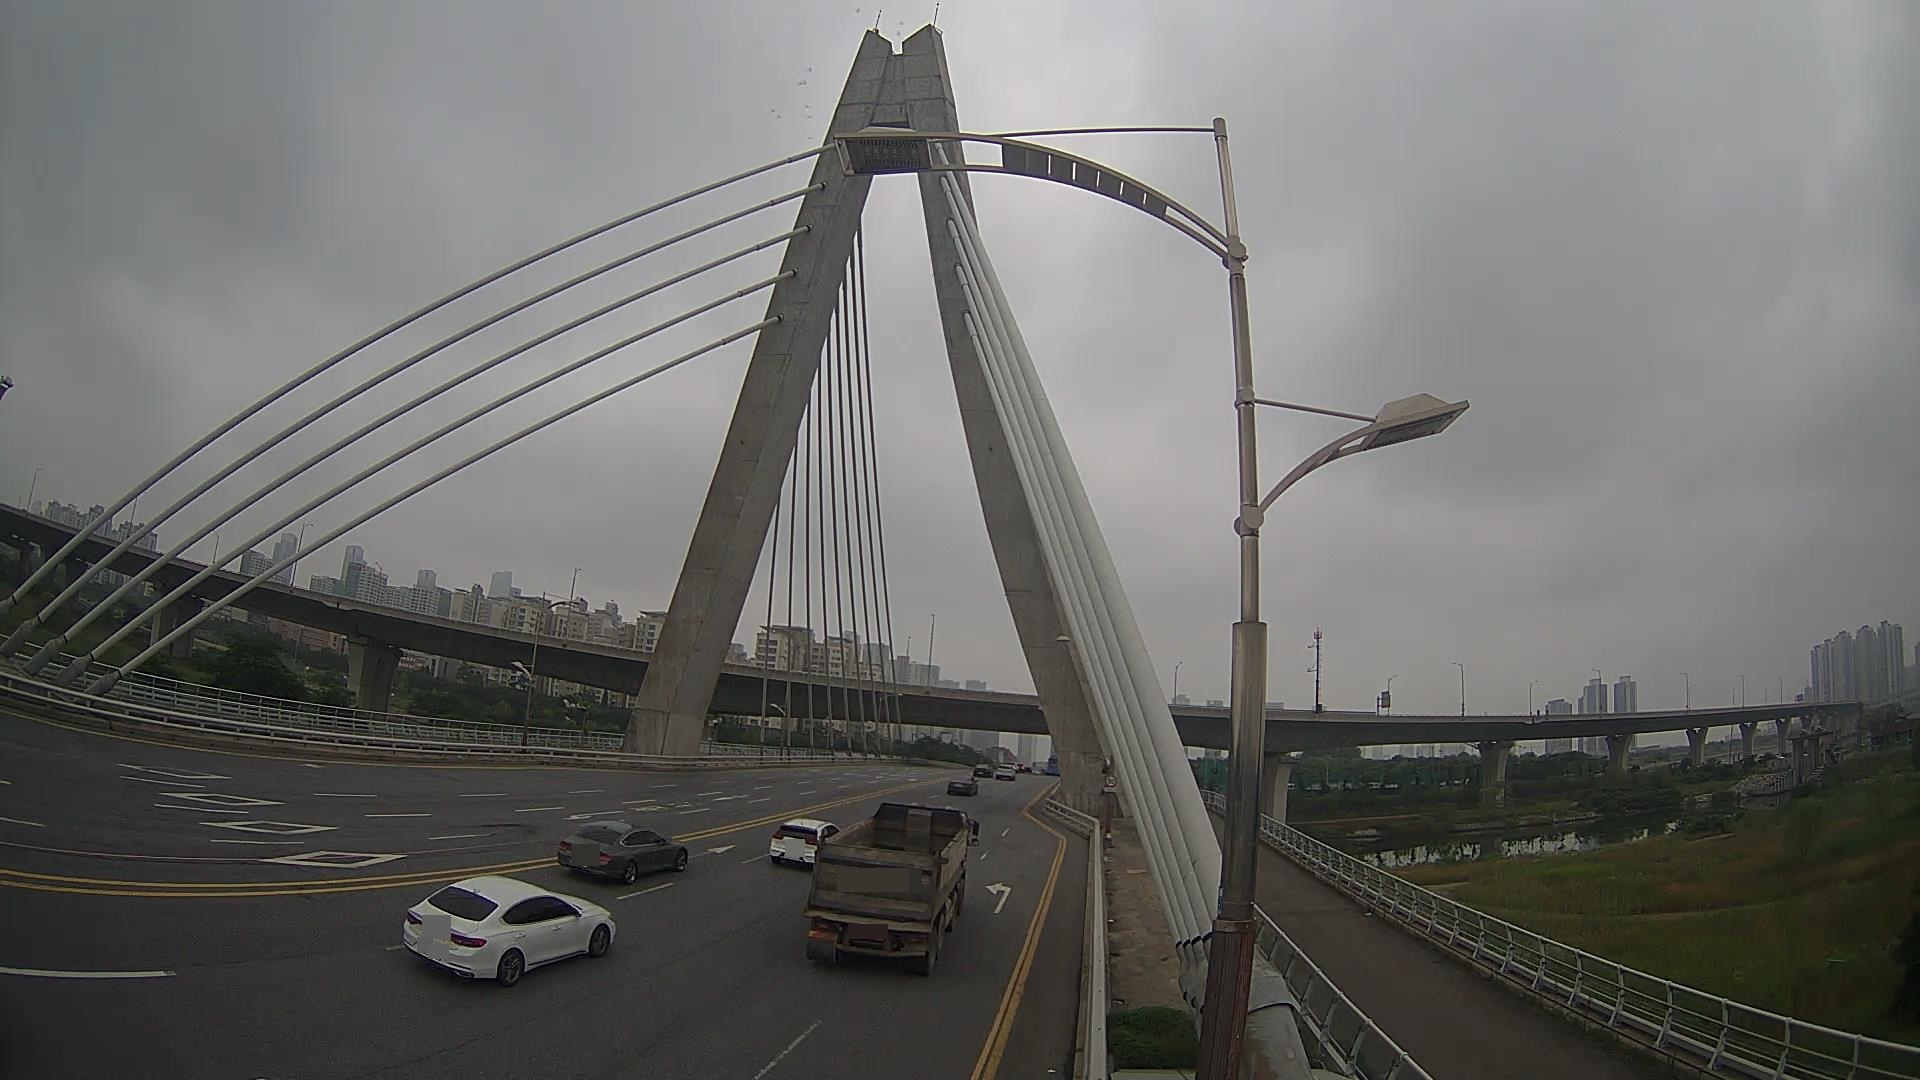정상차량: (803, 802, 980, 977)
